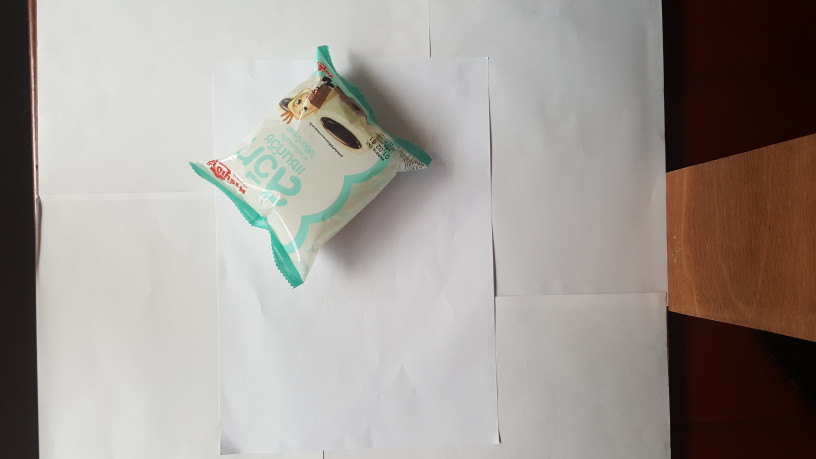farmhouse-sweetsandwich-chocolate: (189, 44, 429, 291)
